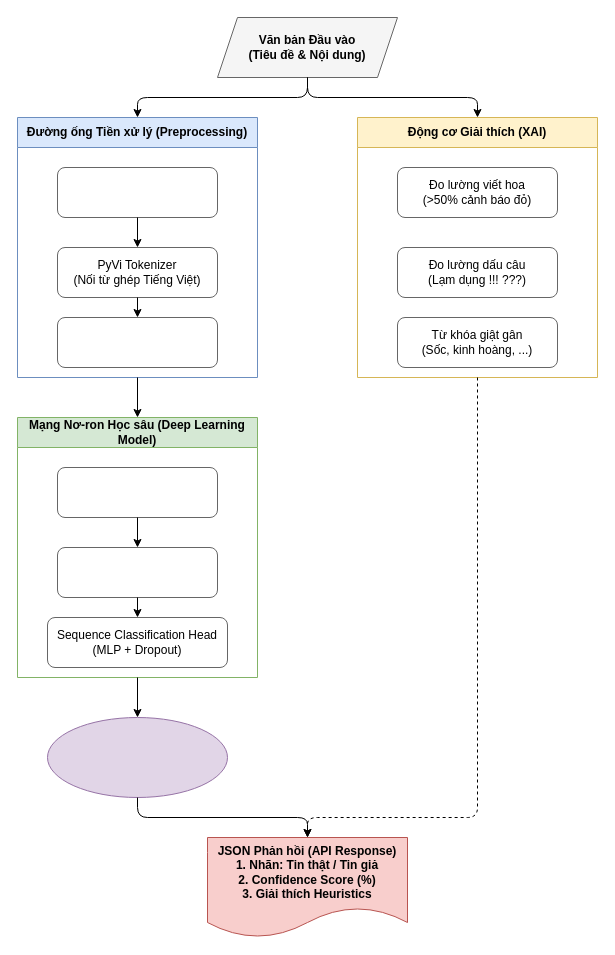
Image size: 615x955. Some labels were removed from this diagram. The shapes that lost their labels are listed below. From the top down, each one's box as (x1, y1, x2, y2) in pixels, then its label:
(56, 166, 218, 218): Làm sạch Văn bản (Xóa URL, chữ thường)
(56, 316, 218, 368): PhoBERT BPE Tokenizer (Padding & Truncation 256)
(56, 466, 218, 518): PhoBERT Base (12 Transformer Layers)
(56, 546, 218, 598): Trích xuất Vector [CLS] (768 chiều)
(46, 716, 228, 798): Hàm Softmax (Quy chuẩn Xác suất 0-100%)
